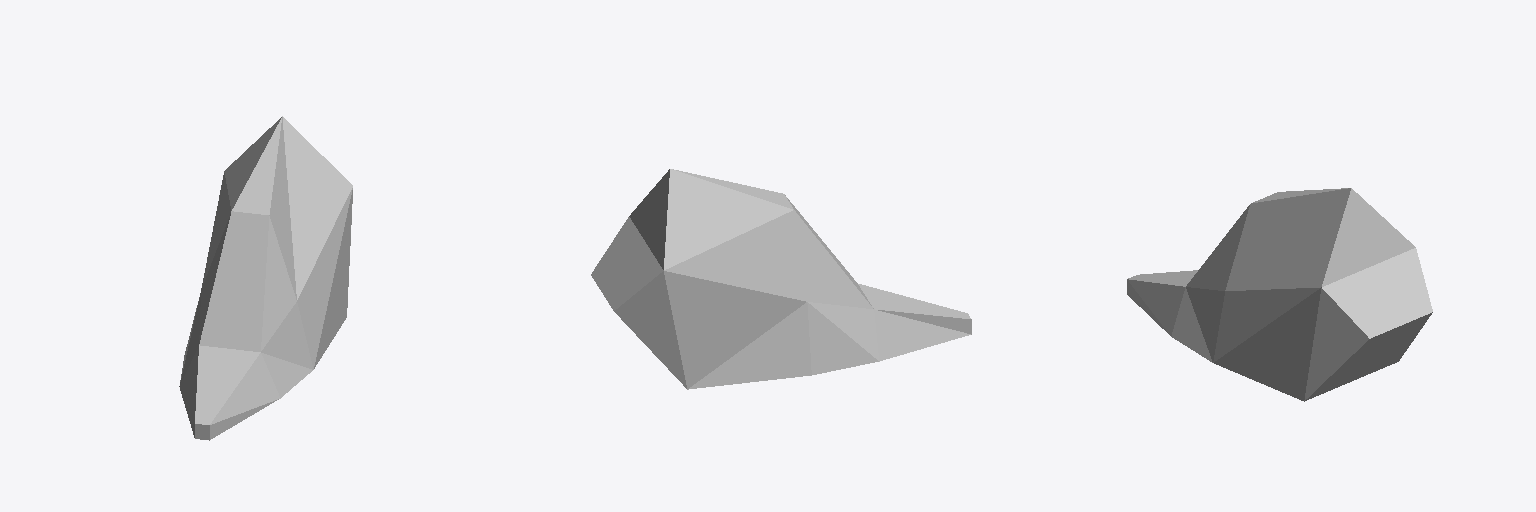
File: mLv1Mountain03.obj
3 views of the same model, side by side, from view 1: azimuth 30°, elevation 25°; view 2: azimuth 150°, elevation 25°; view 3: azimuth 270°, elevation 25° (orthographic).
Parts seen in each view (by area): view 1: mStoneBolder5; view 2: mStoneBolder5; view 3: mStoneBolder5.
Boxes of the visible parts, box(x1,y1,x2,y2) form: mStoneBolder5: box(179, 116, 352, 440); mStoneBolder5: box(591, 169, 971, 389); mStoneBolder5: box(1127, 188, 1432, 401).
Size of the model in its own units: 45.57 by 32.35 by 45.66.